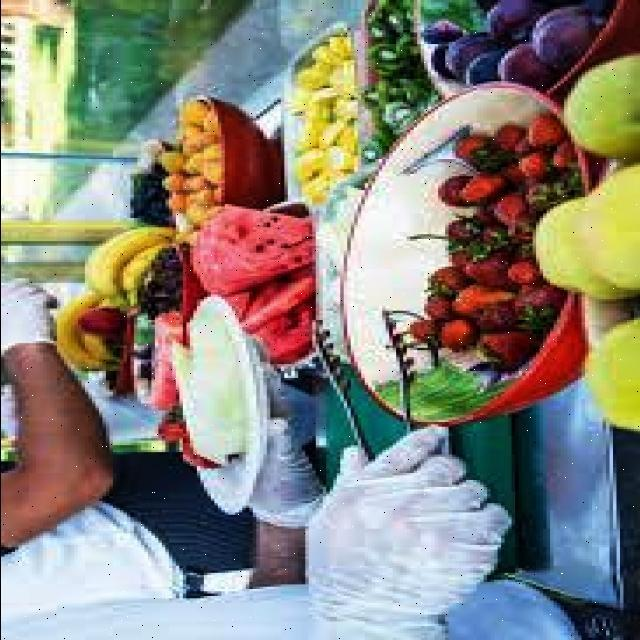apron: (309, 430, 518, 636), (0, 278, 54, 359)
